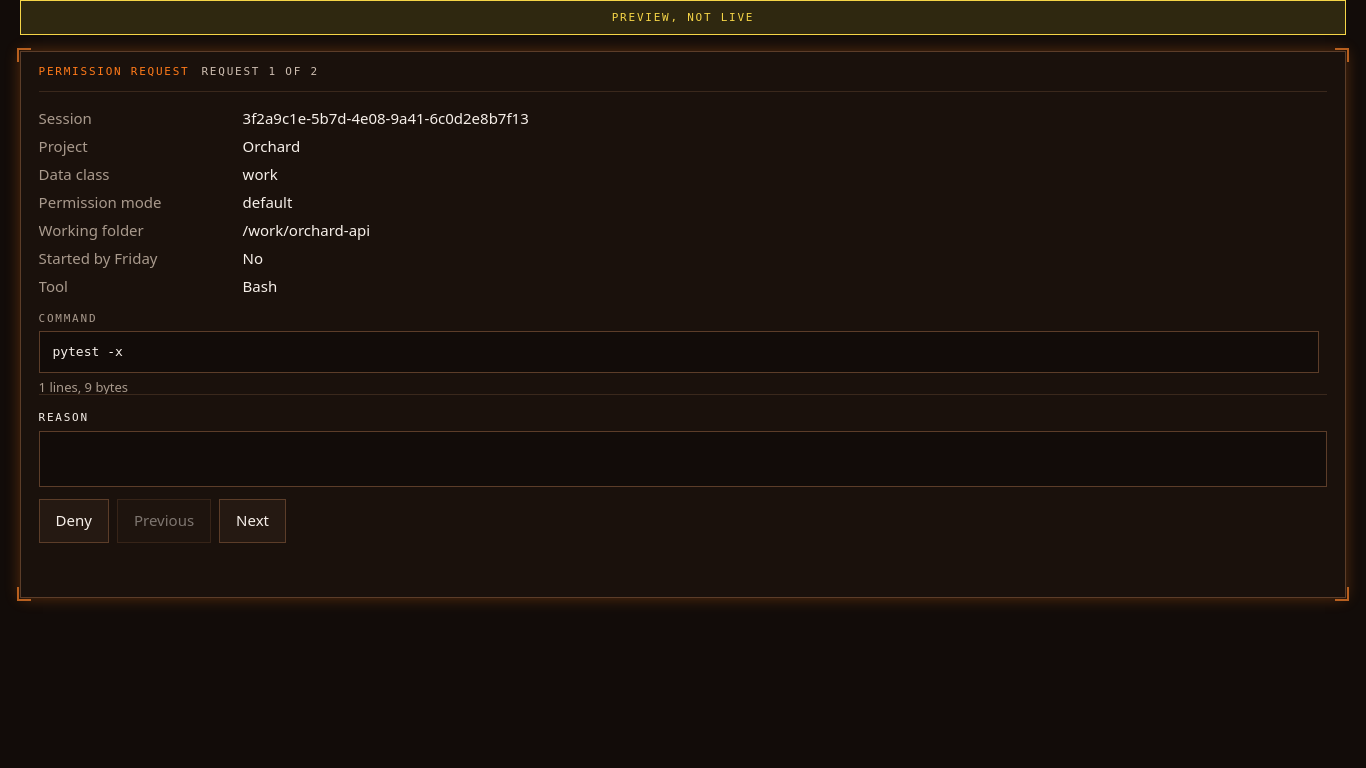
Scenario: Deny requires a reason, then shows the preview result
This screenshot has width=1366, height=768.
Click the button "Deny": click(74, 521) [39, 499, 109, 543]
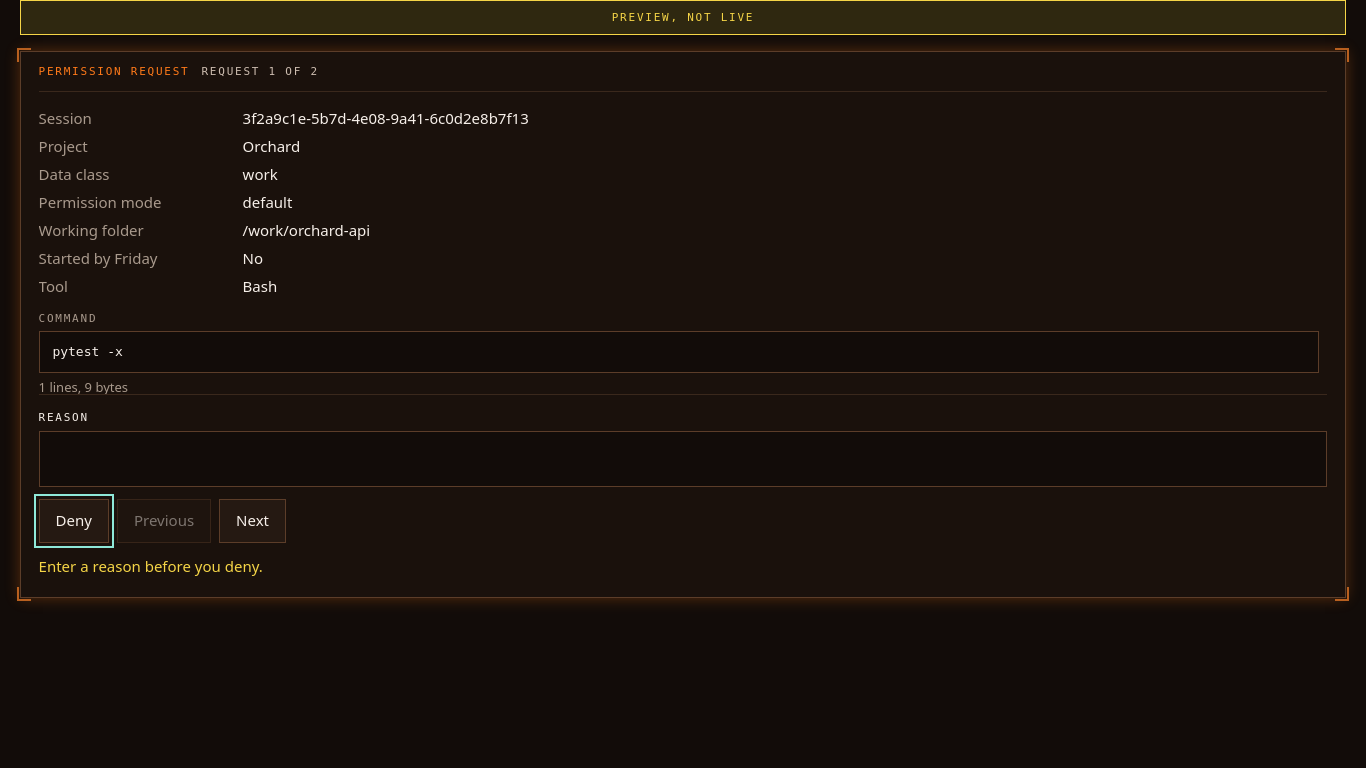
Now the message reads "Enter a reason before you deny.", box [39, 556, 263, 576]
In the text box: (683, 459) [39, 431, 1327, 487], type "not requested"
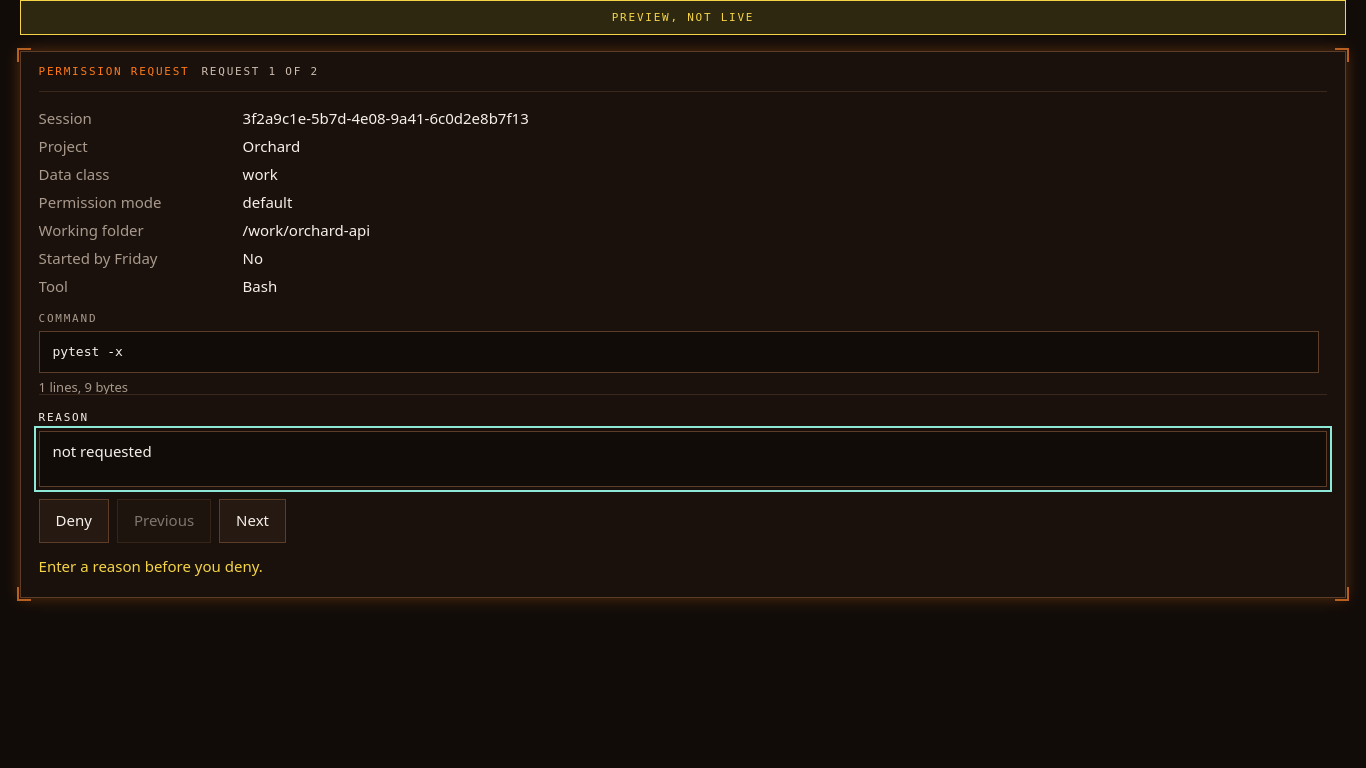
Click the button "Deny": click(74, 521) [39, 499, 109, 543]
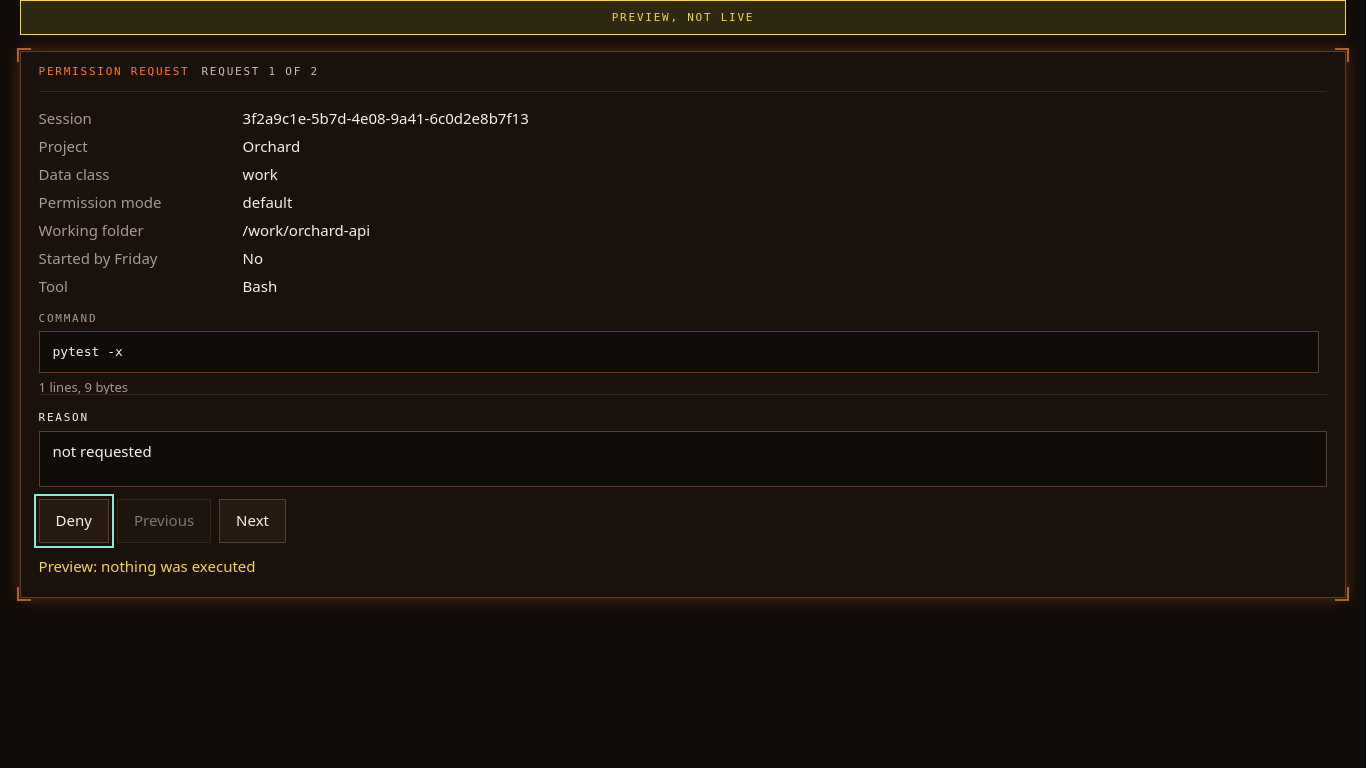
Now the message reads "Preview: nothing was executed", box [39, 556, 256, 576]
